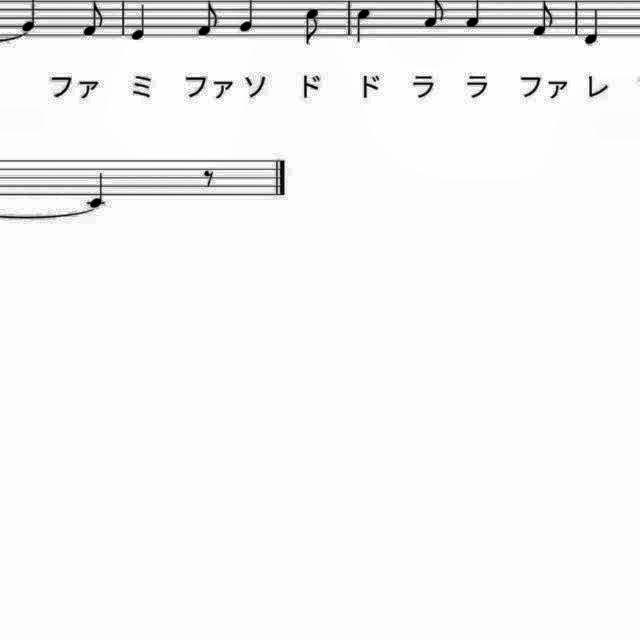Eighth-note: (526, 1, 558, 42), (78, 0, 109, 40), (194, 1, 224, 42), (300, 4, 326, 51), (419, 1, 449, 32)
Eighth-rest: (199, 164, 221, 192)
Quarter-note: (580, 4, 608, 51), (126, 1, 154, 44), (81, 170, 111, 210), (352, 3, 376, 45), (235, 0, 261, 36), (18, 0, 44, 32), (462, 1, 486, 32)
